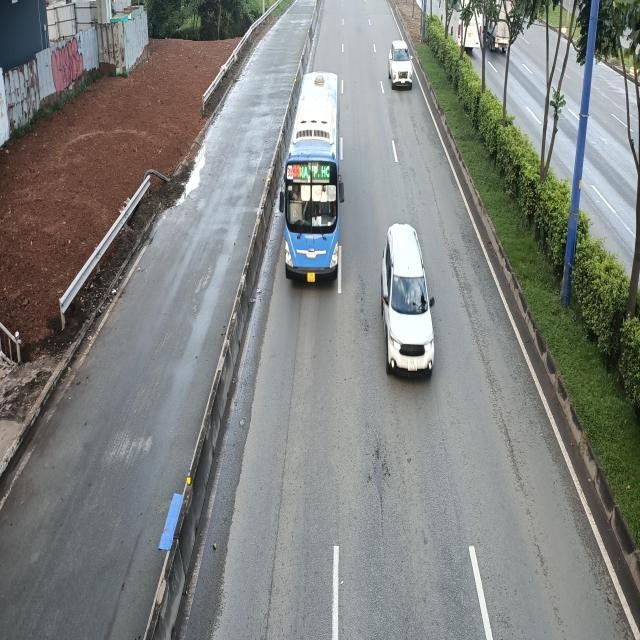car: (382, 222, 438, 374), (388, 41, 413, 89)
coach: (276, 73, 344, 284)
